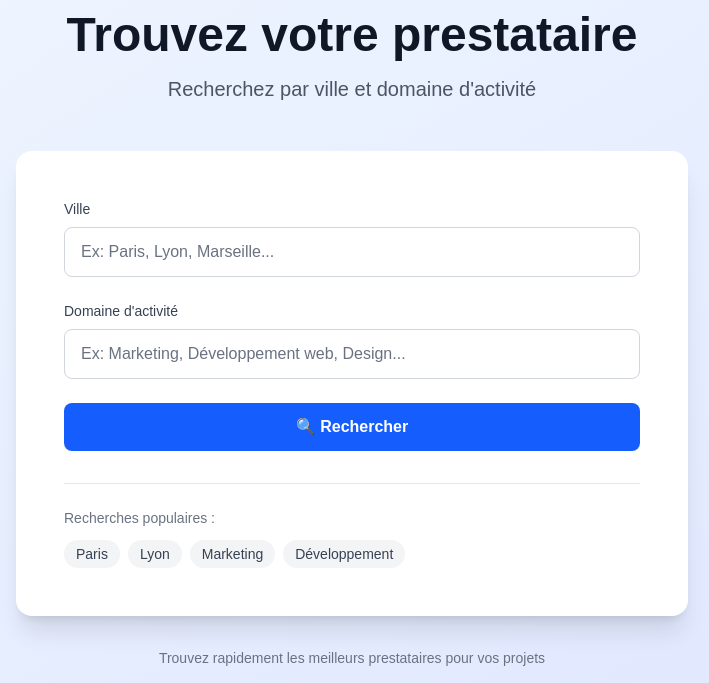
Home Page › updates domaine input when domaine suggestion is clicked
Click the button "Marketing": (233, 554) [190, 540, 275, 568]
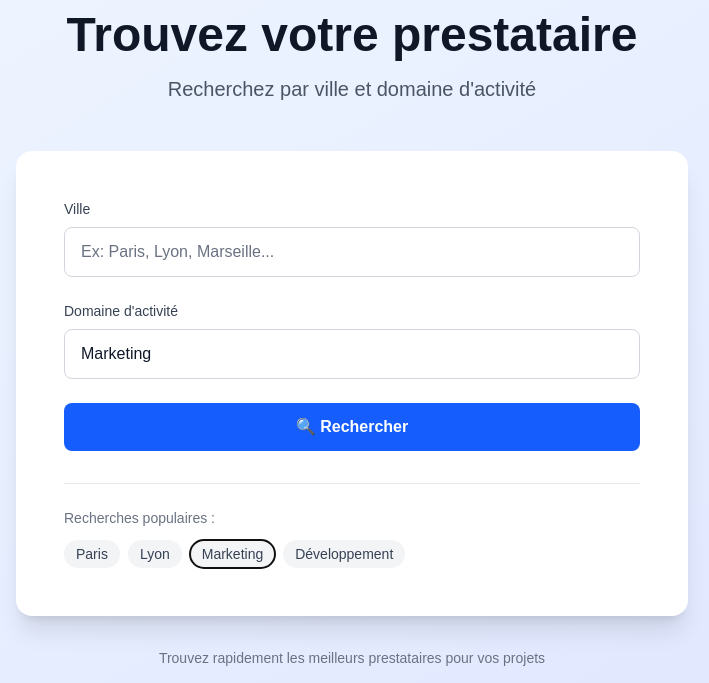
Now the field labelled "Domaine d'activité" holds "Marketing", box [64, 328, 640, 378]
